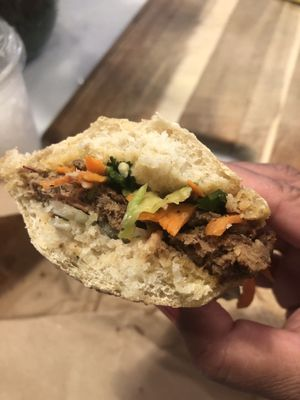soup: (4, 116, 280, 311)
